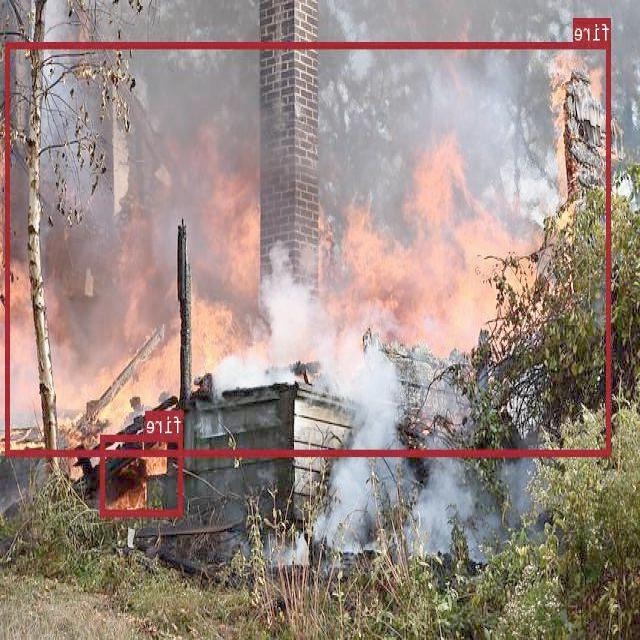fire: (6, 42, 612, 454), (102, 434, 184, 516)
